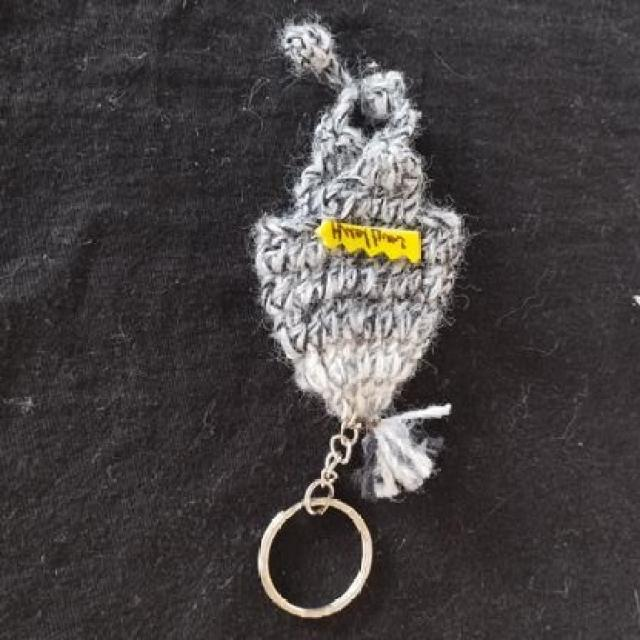Llavero: (248, 16, 470, 504)
